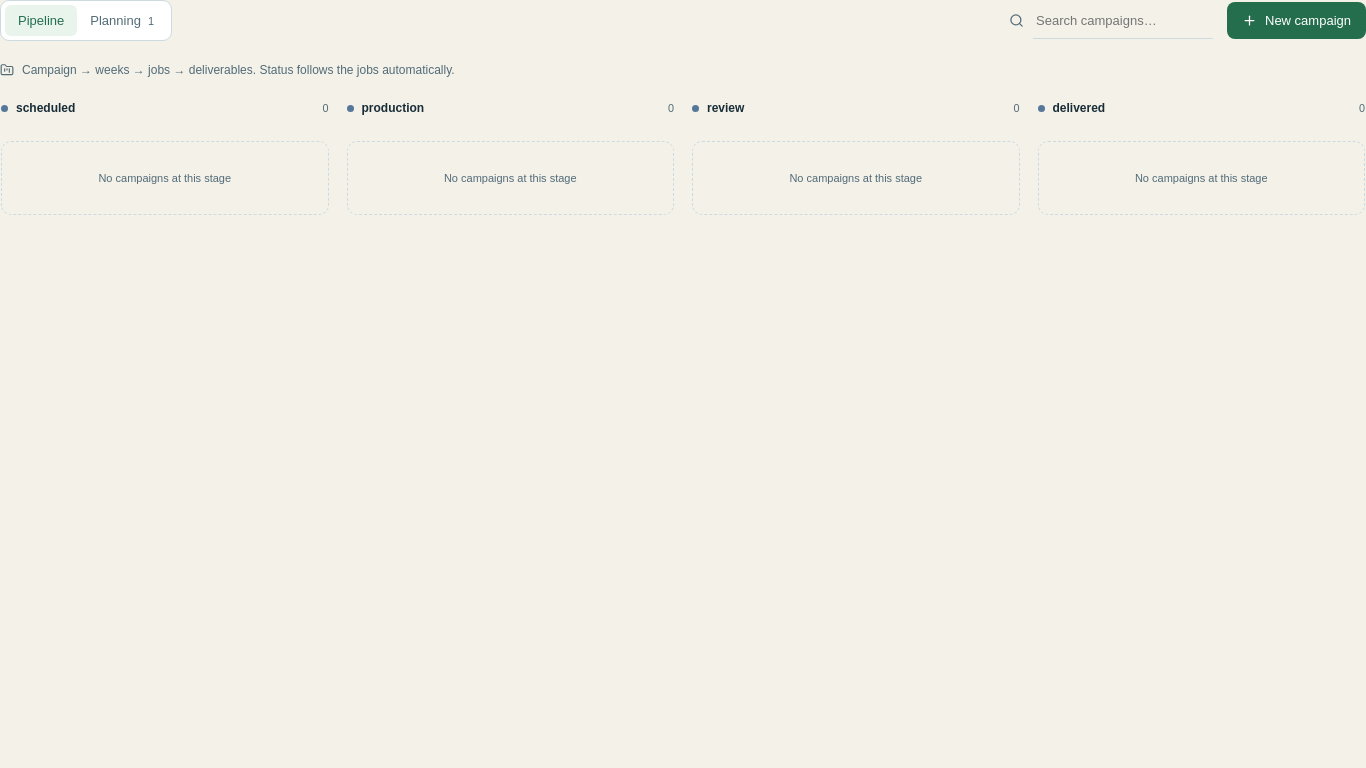
Test: Campaign weekly editor › puts planning campaigns in Planning rather than manually moving the campaign
The width and height of the screenshot is (1366, 768).
Step 1. Click the button "Planning 1" → {"x": 122, "y": 20}, box x1=77 y1=5 x2=167 y2=36
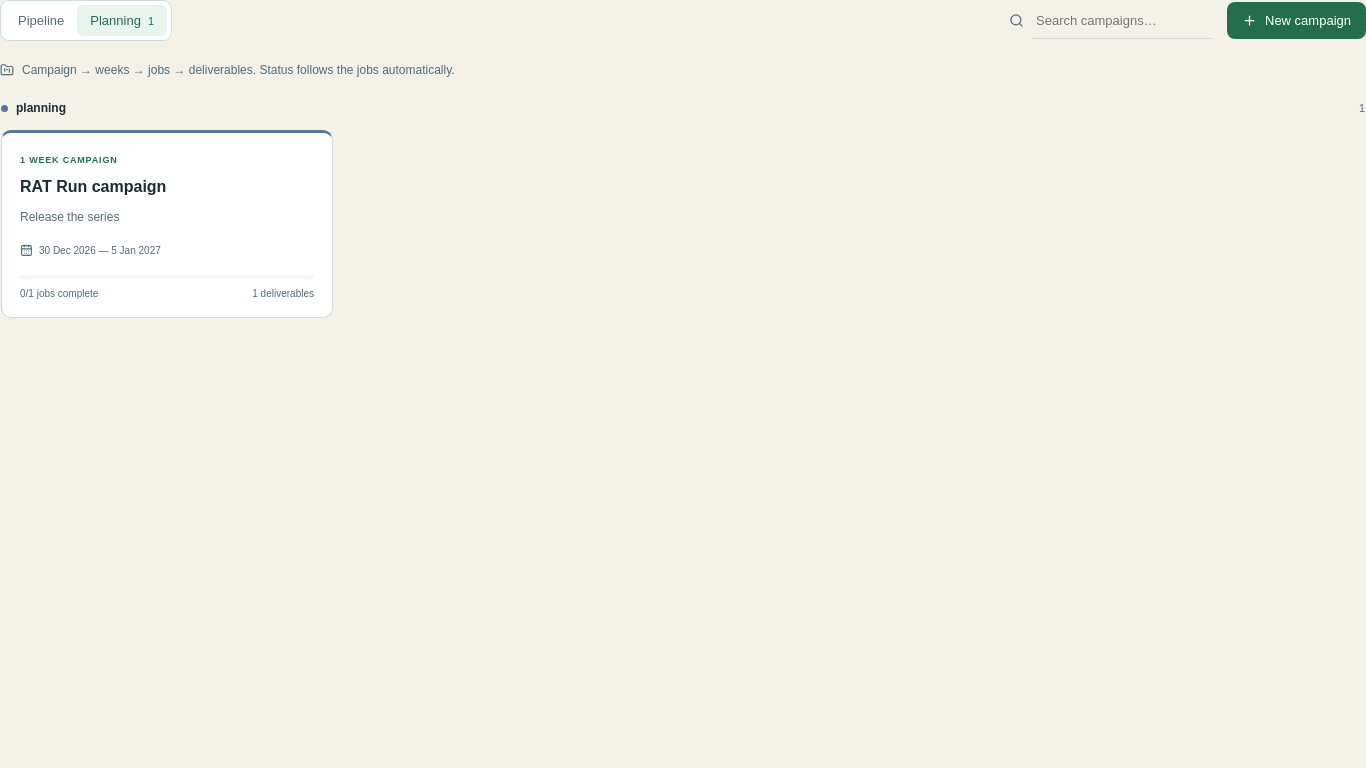
Expected: the heading "RAT Run campaign" is shown, x1=20 y1=178 x2=166 y2=195
Step 2. Click the button with class "campaign-card" → {"x": 72, "y": 160}, box x1=1 y1=130 x2=333 y2=318
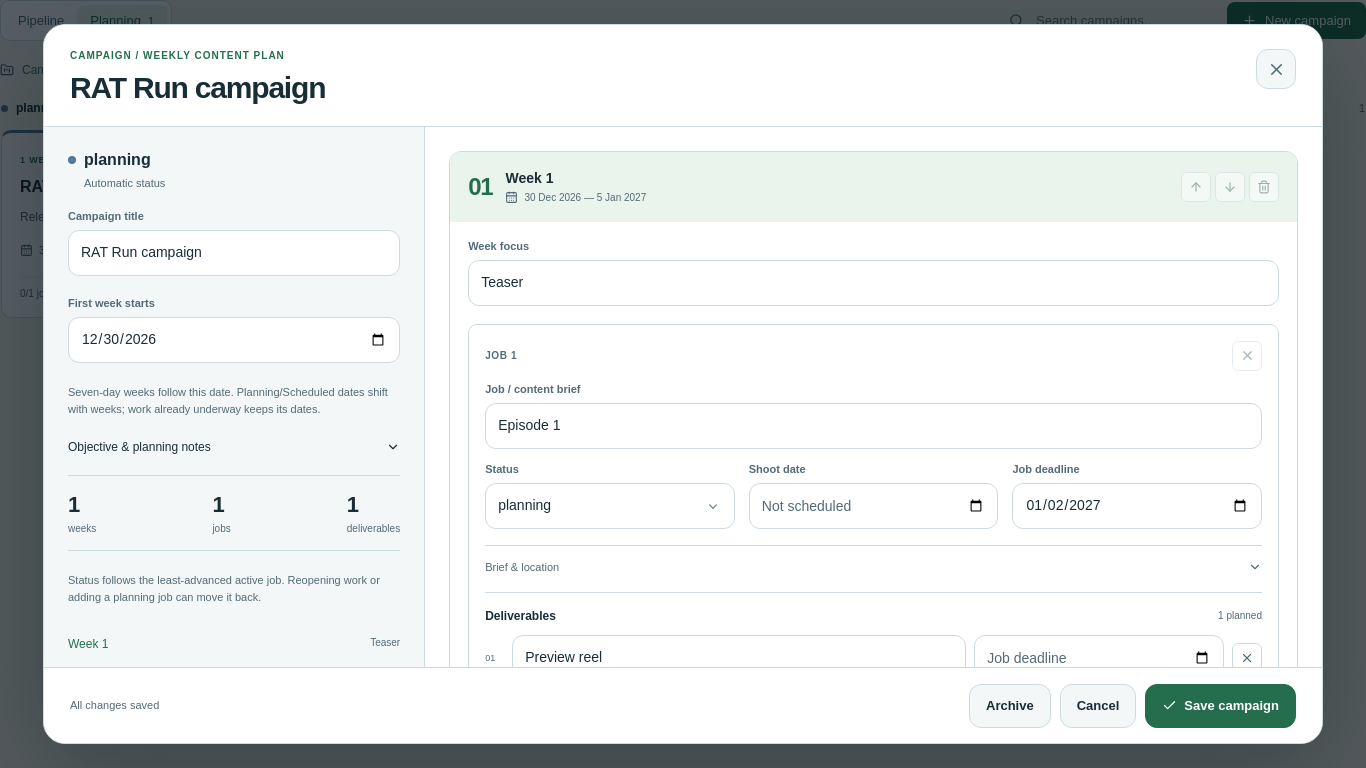
Expected: the dialog is shown
